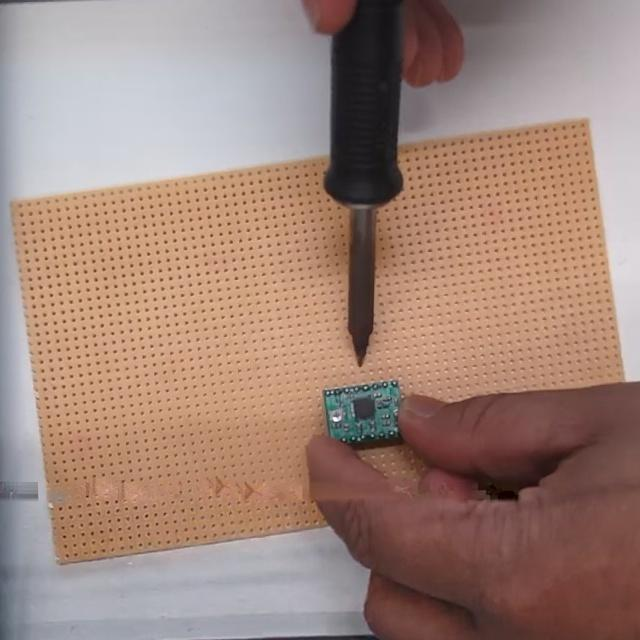Chip: (322, 380, 420, 449)
soldering_iron: (328, 0, 404, 374)
